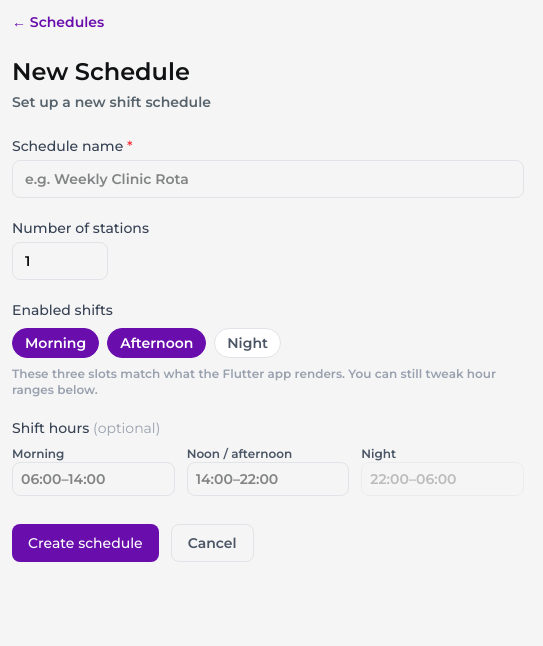
Test: NewSchedulePage › shows the no-shift error when all shift toggles are off
Type "Roster" into the field with placeholder "e.g. Weekly Clinic Rota" at coordinates (268, 179), box [12,160,524,198]
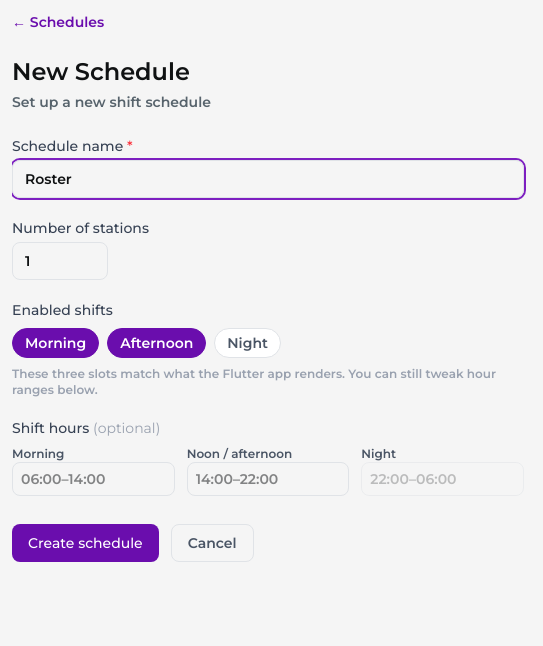
// default has morning+afternoon enabled — toggle them off
Click the button "Morning" at coordinates (56, 343), box [12,328,99,358]
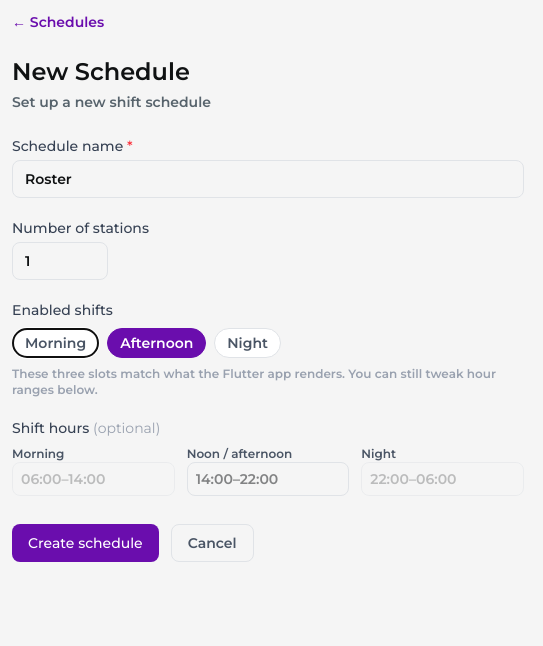
Click the button "Afternoon" at coordinates (157, 343), box [107,328,206,358]
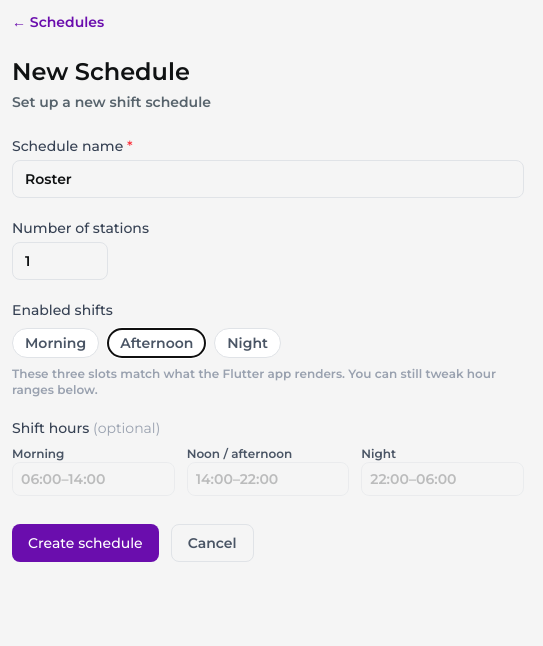
Click the button "Create schedule" at coordinates (85, 543), box [12,524,159,562]
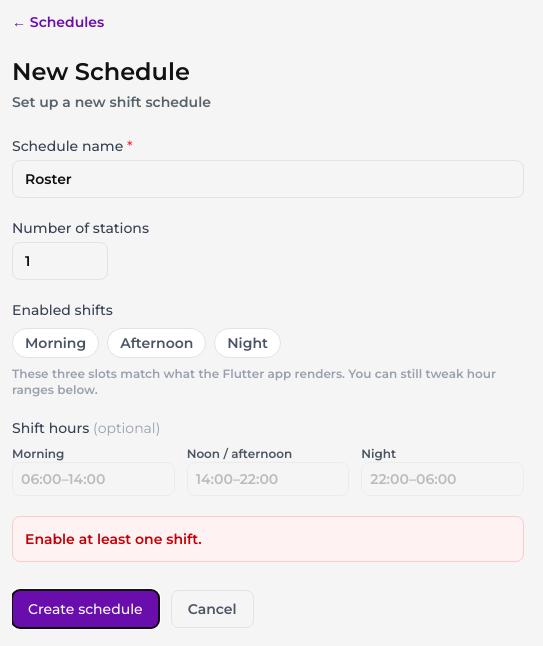
Expected: the text "Enable at least one shift." is shown, [12,516,524,562]
